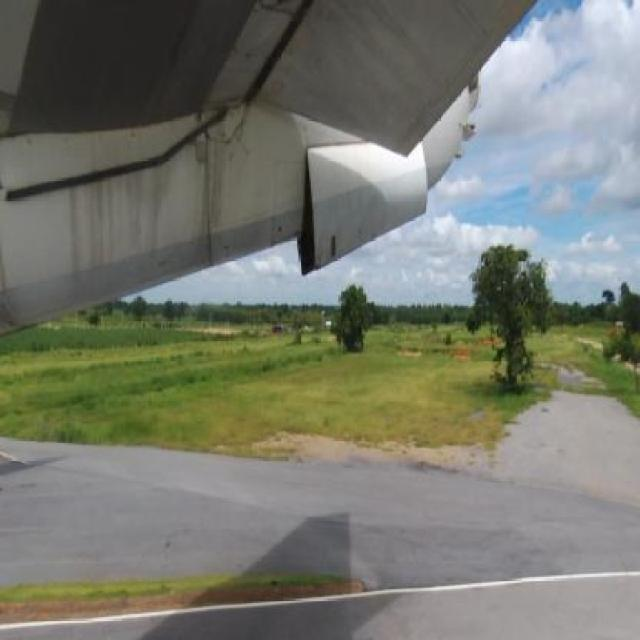Rust: (64, 152, 176, 291), (187, 110, 236, 276)
